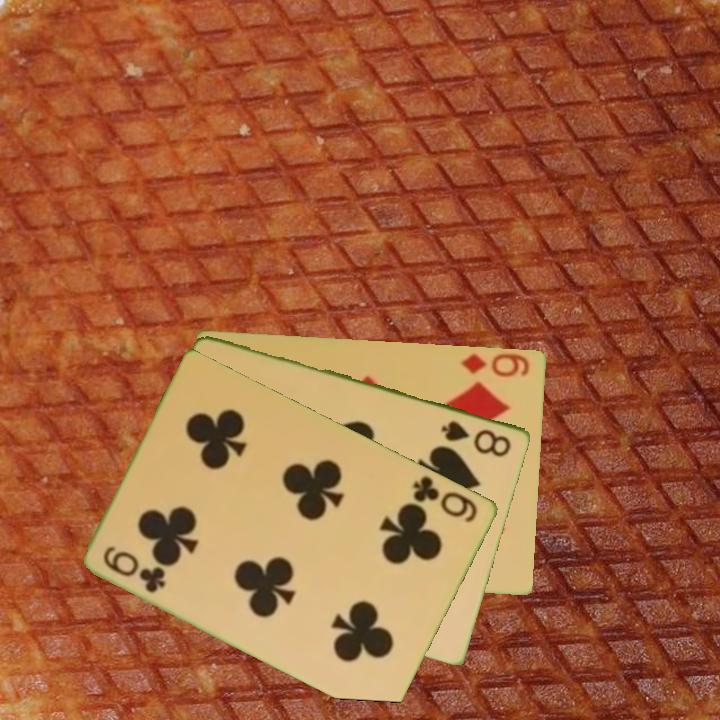6c: (410, 472, 481, 526), (100, 542, 169, 596)
6d: (458, 349, 532, 380)
8s: (438, 417, 515, 460)
